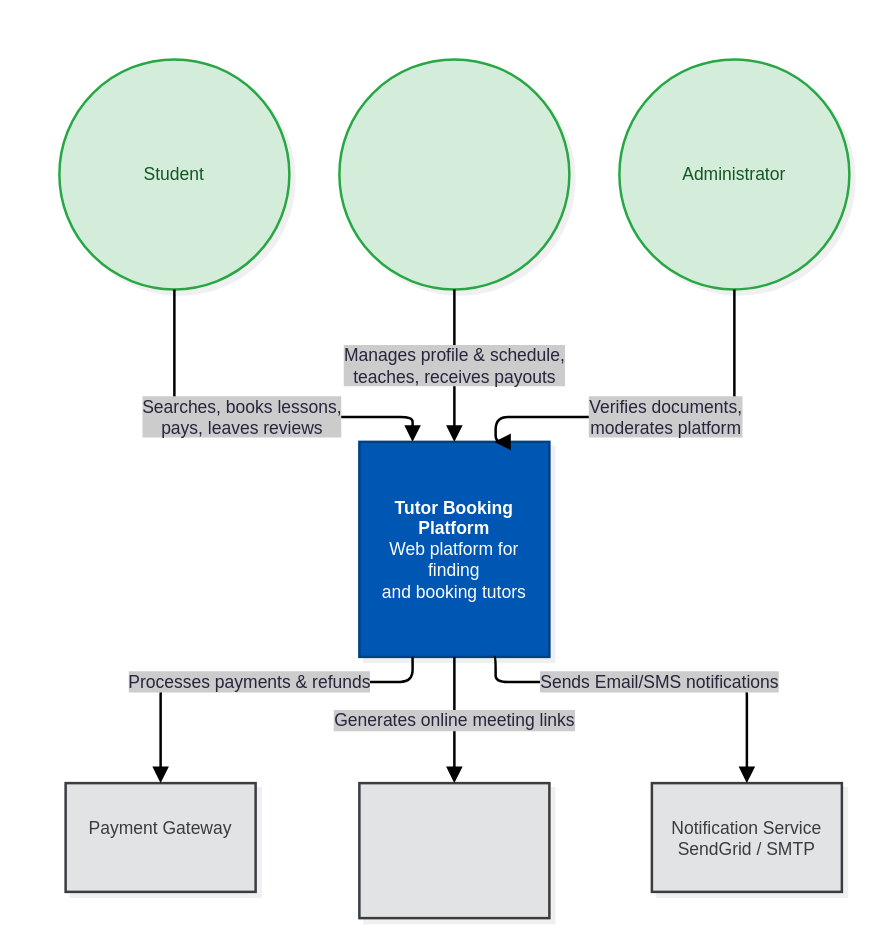
Some shapes in this 876 by 945 pixel diagram are drawn without their labels. The centre of each missing label's shape, as x and y in pixels:
"Tutor" goes at (x=456, y=176).
"Video Conferencing API Zoom / Google Meet" goes at (x=456, y=852).
